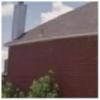chimneys: (10, 1, 27, 42)
